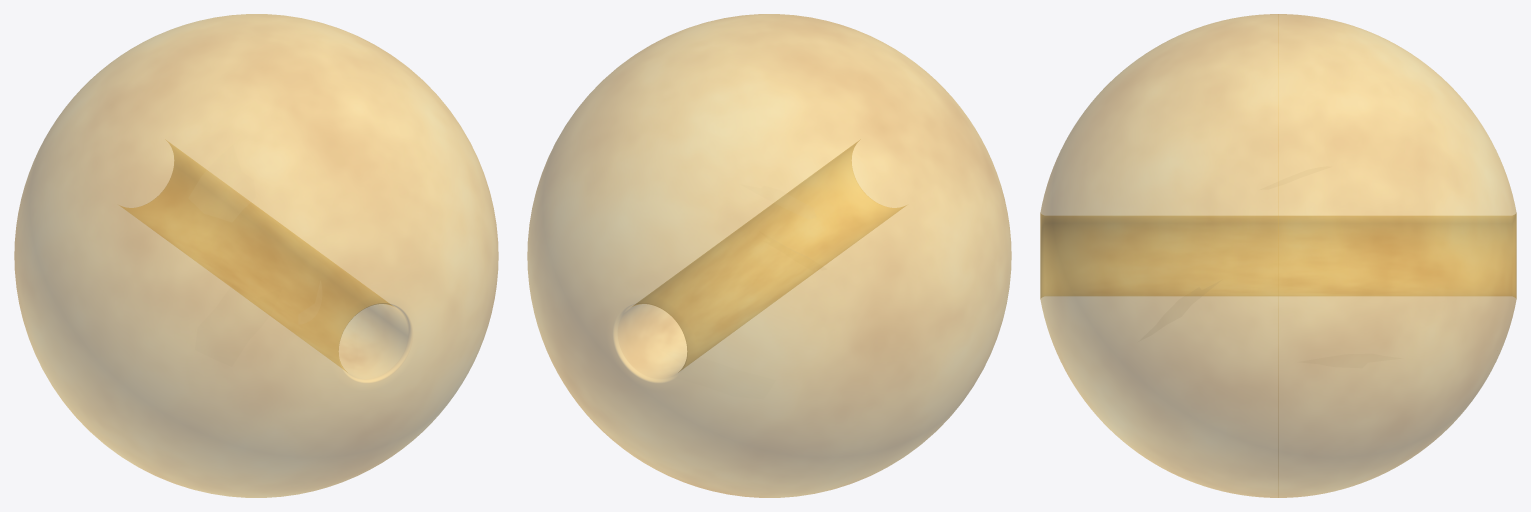
The model's file is citrine-6mm.glb.
3 renders of one model, left to right at view 1: azimuth 30°, elevation 25°; view 2: azimuth 150°, elevation 25°; view 3: azimuth 270°, elevation 25°, orthographic.
Visible parts, largest first — view 1: citrine.001; view 2: citrine.001; view 3: citrine.001.
Part boxes in pixels (x1,y1,x2,y2): citrine.001: (14,14,498,497); citrine.001: (527,14,1011,497); citrine.001: (1040,14,1516,497).
Bounding box in the file's own units: 0.006 × 0.006 × 0.0059.
2 materials, 1 textured.
